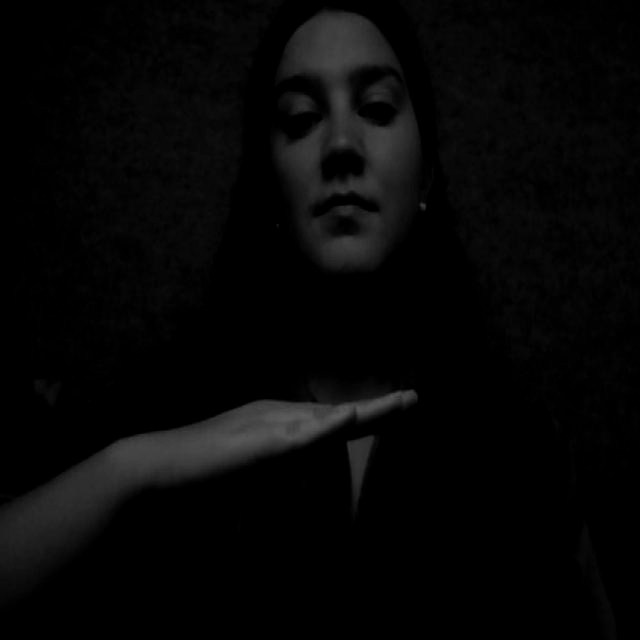Paper: (160, 373, 416, 504)
